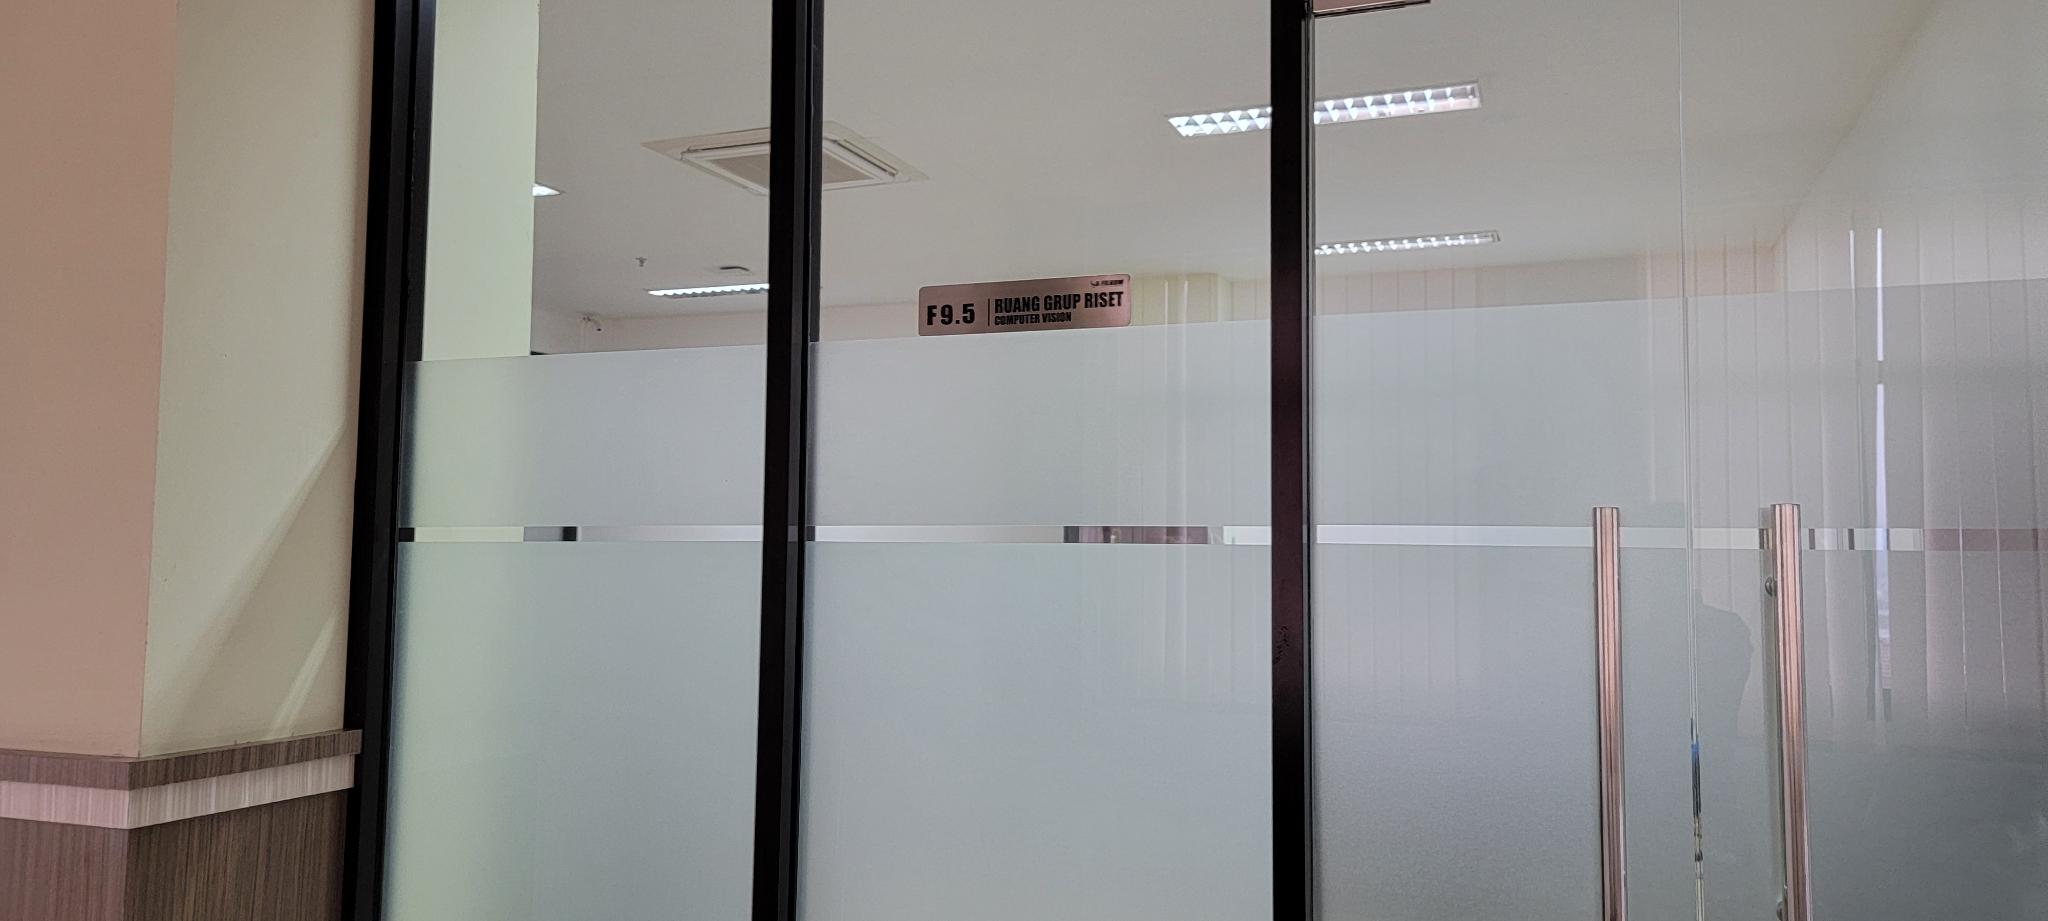plate: (917, 276, 1130, 338)
